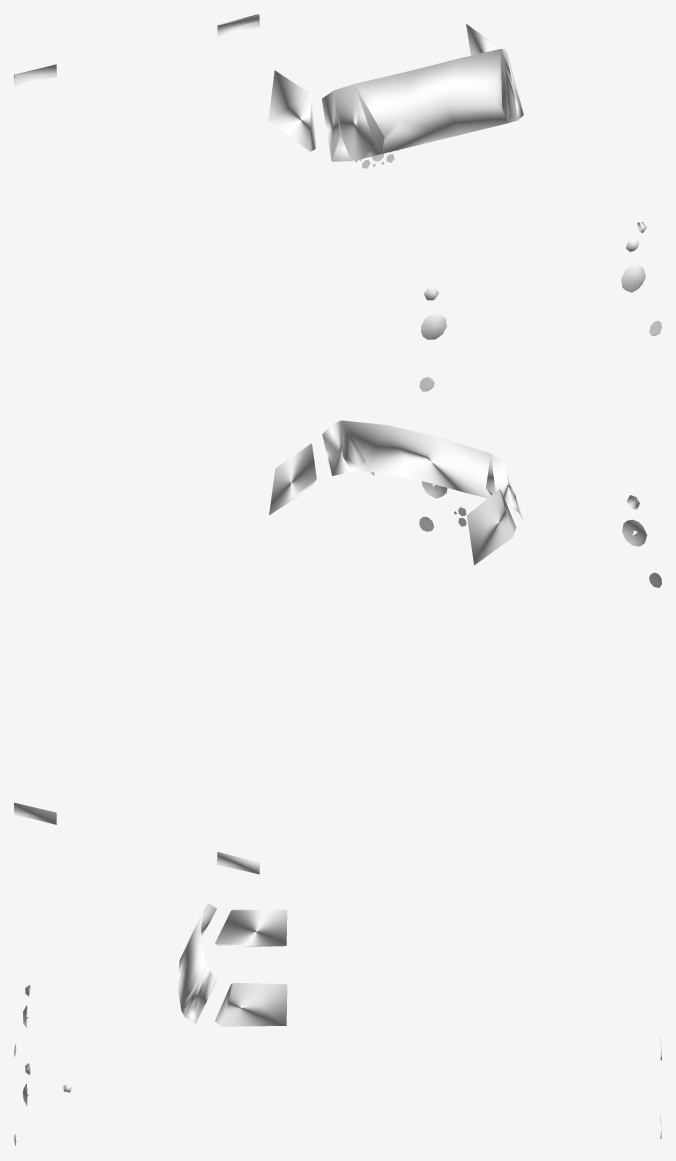
The picture shows the model from 3 angles, top to bottom: view 1: azimuth 30°, elevation 25°; view 2: azimuth 150°, elevation 25°; view 3: azimuth 270°, elevation 25°; orthographic projection. The views are drawn at different scales.
Bounding box in the file's own units: 2.11 × 1.64 × 5.7.
Materials: 1 (1 with a texture image).
